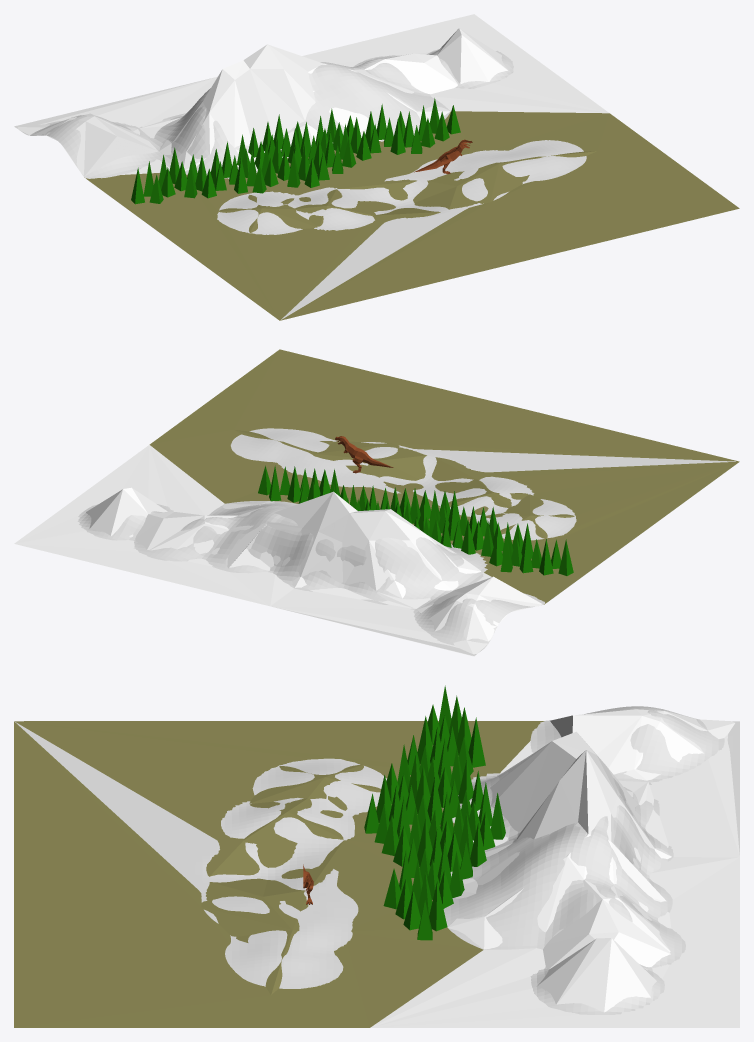
Rendered from dinossauro.glb.
3 renders of one model, top to bottom at view 1: azimuth 30°, elevation 25°; view 2: azimuth 150°, elevation 25°; view 3: azimuth 270°, elevation 25°, orthographic. The views are drawn at different scales.
Visible parts, largest first — view 1: Chao, Montanhas.002, Montanhas originais, Plane; view 2: Chao, Montanhas.002, Montanhas originais, Plane; view 3: Chao, Montanhas.002, Montanhas originais.
Part boxes in pixels (<box>): Chao: <box>84,111,739,320</box>; Montanhas.002: <box>14,14,609,176</box>; Montanhas originais: <box>14,48,586,319</box>; Plane: <box>414,139,472,174</box>; Chao: <box>149,349,739,604</box>; Montanhas.002: <box>14,445,543,656</box>; Montanhas originais: <box>77,428,735,655</box>; Plane: <box>335,436,393,473</box>; Chao: <box>14,721,544,1027</box>; Montanhas.002: <box>370,708,739,1027</box>; Montanhas originais: <box>14,706,739,1014</box>.
Size of the model in its own units: 60.02 by 10.23 by 60.
